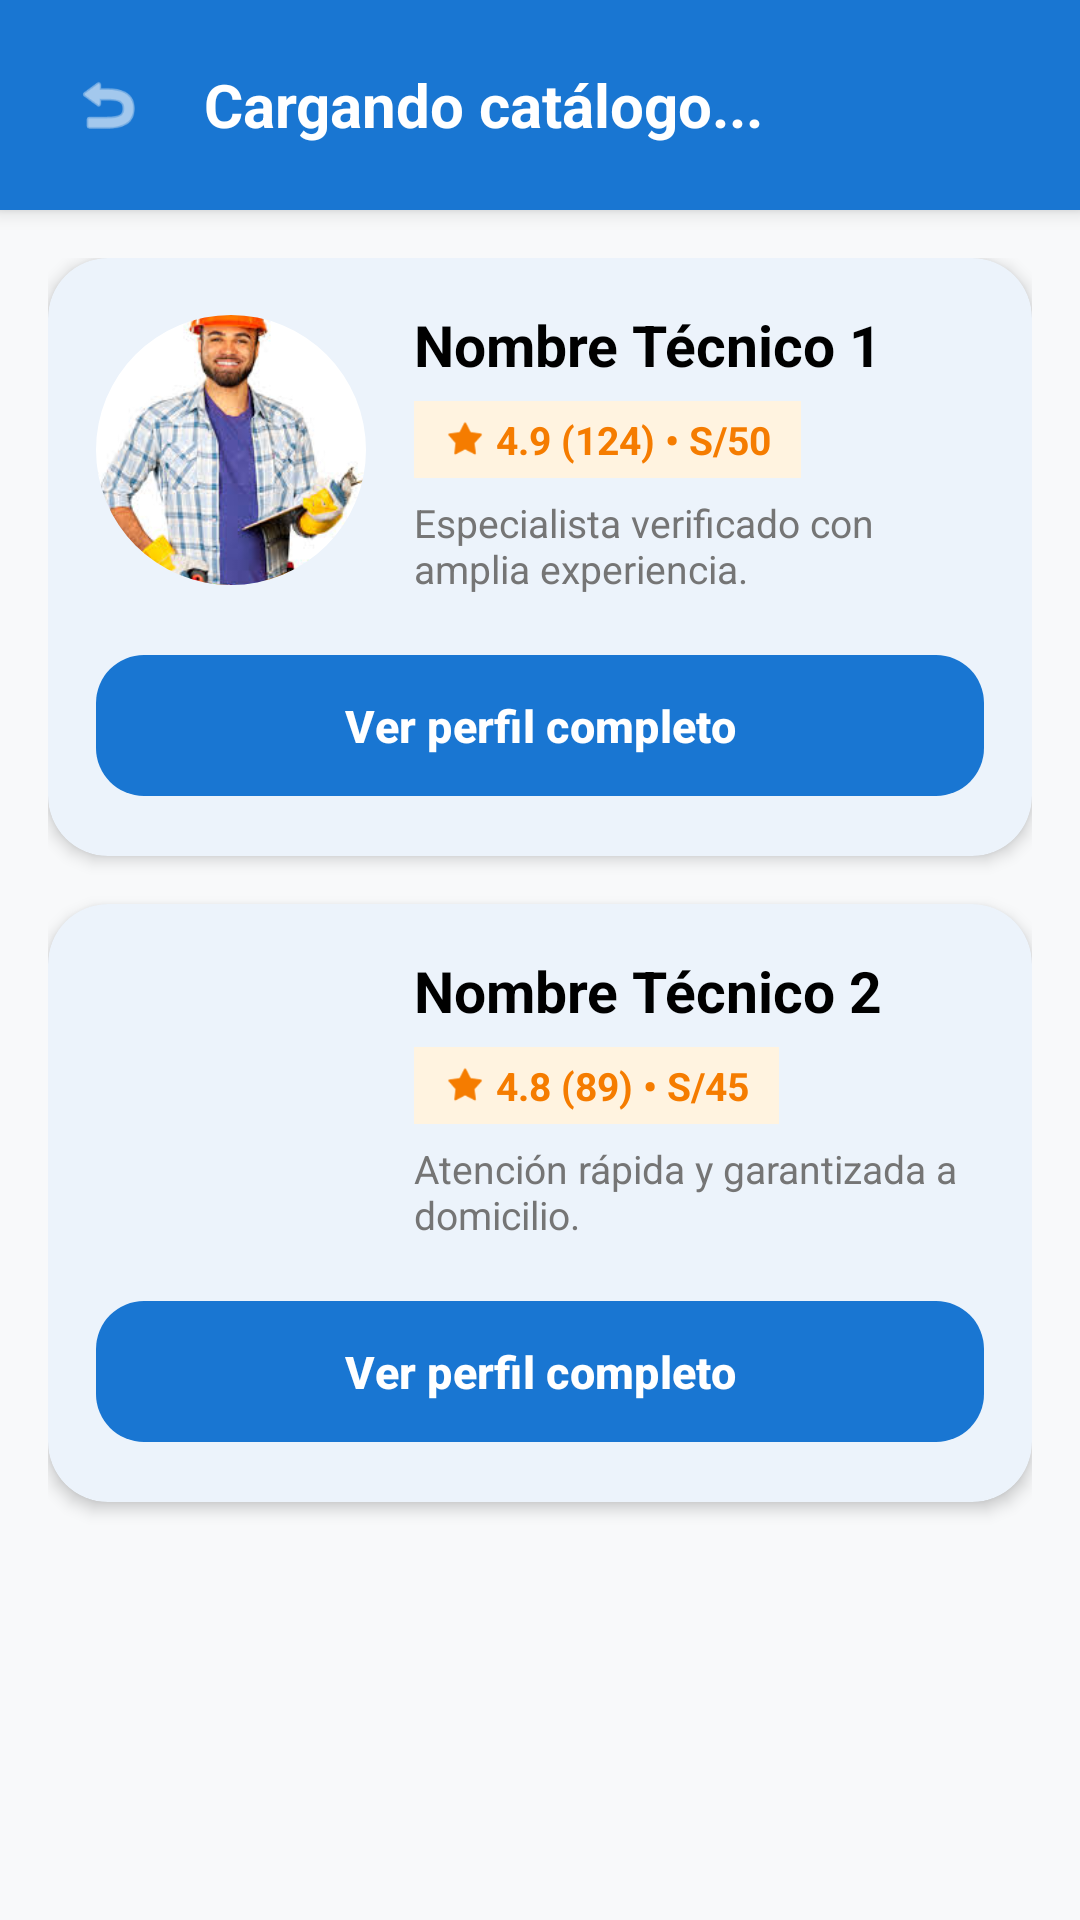

Where icons sit on this 1080×1920 app screen, as (x1, y1, x2, y2):
electricista: (96, 315, 366, 585)
revert: (83, 82, 135, 129)
star on: (448, 422, 482, 455), (448, 1068, 482, 1101)
